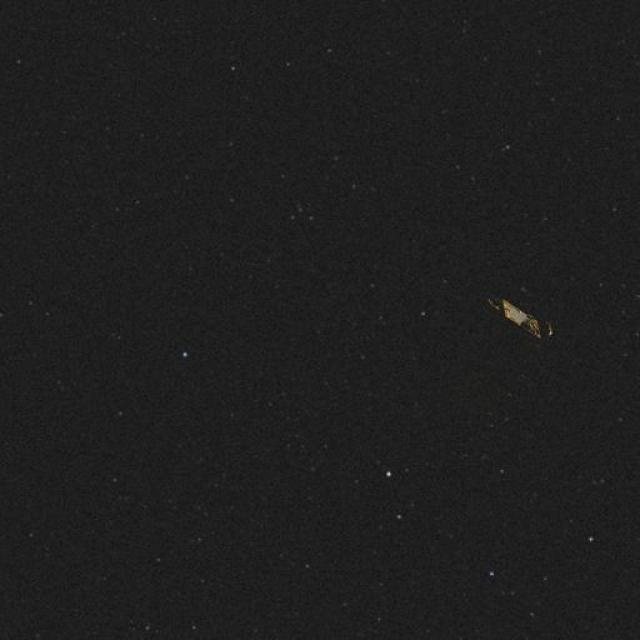lisa_pathfinder: (417, 208, 583, 391)
